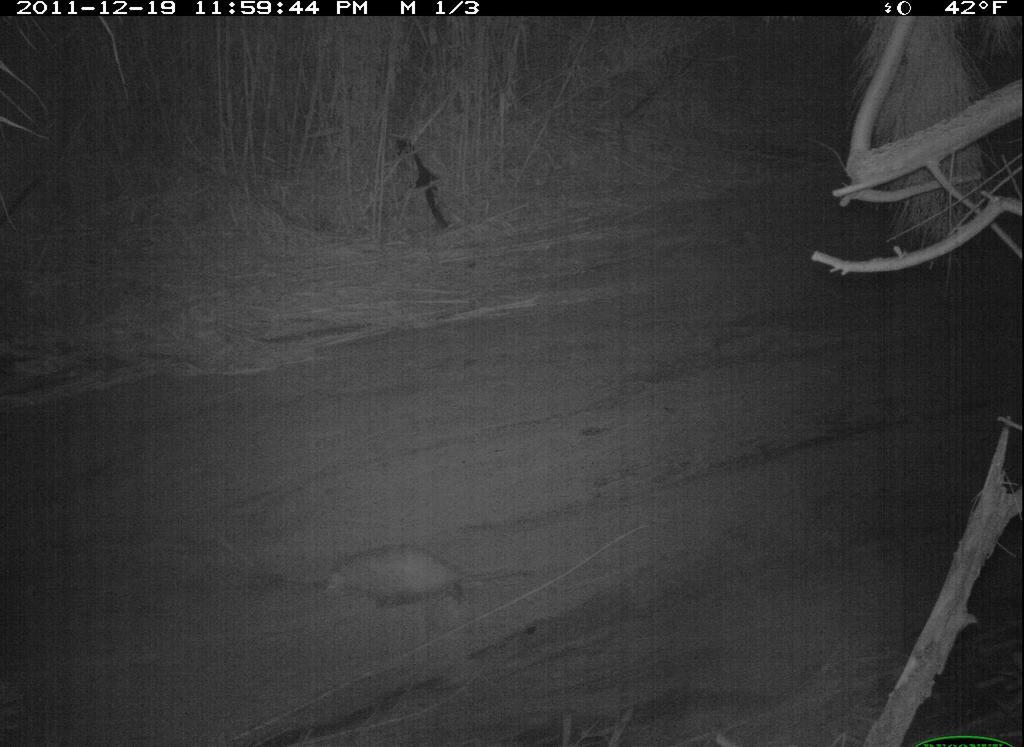opossum: (317, 539, 542, 621)
